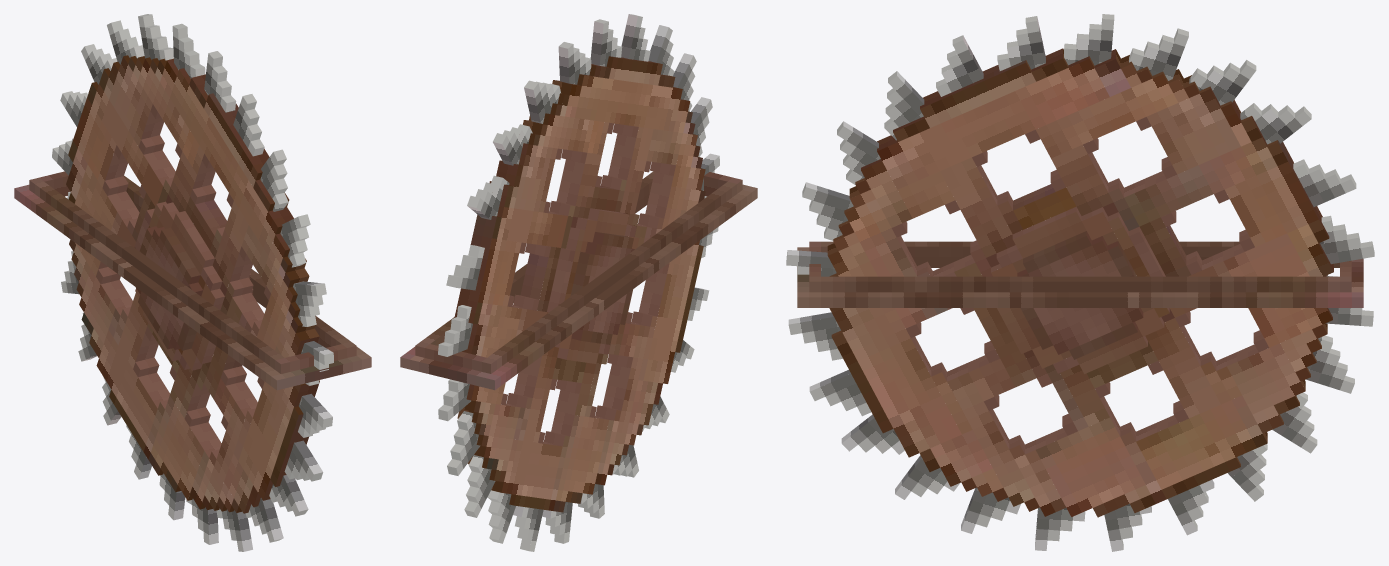
Rendered from trap-13.glb.
The picture shows the model from 3 angles, left to right: view 1: azimuth 30°, elevation 25°; view 2: azimuth 150°, elevation 25°; view 3: azimuth 270°, elevation 25°; orthographic projection. The views are drawn at different scales.
Visible parts, largest first — view 1: base-Local; view 2: base-Local; view 3: base-Local.
Boxes of the visible parts, x1,y1,x2,y2 form: base-Local: [14, 14, 371, 551]; base-Local: [400, 14, 757, 551]; base-Local: [786, 14, 1374, 551].
Size of the model in its own units: 0.2005 by 1 by 1.
Materials: 3 (3 with a texture image).
